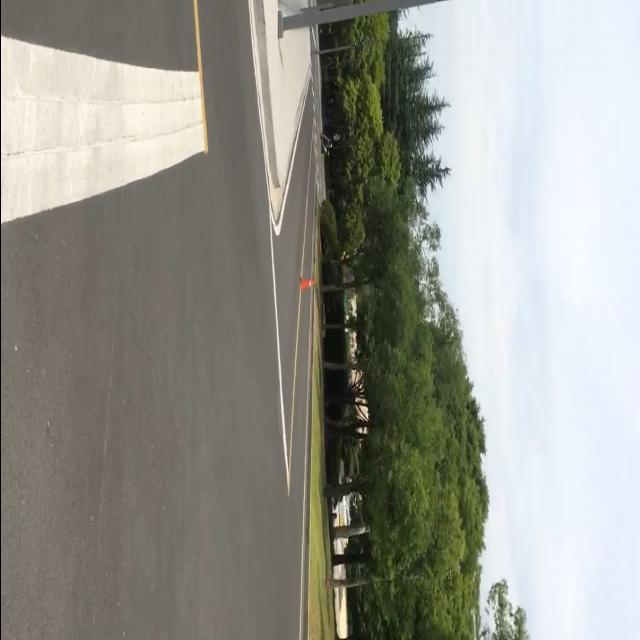obstacle: (276, 0, 460, 37), (301, 273, 316, 292)
sidewalk: (254, 0, 311, 194)
